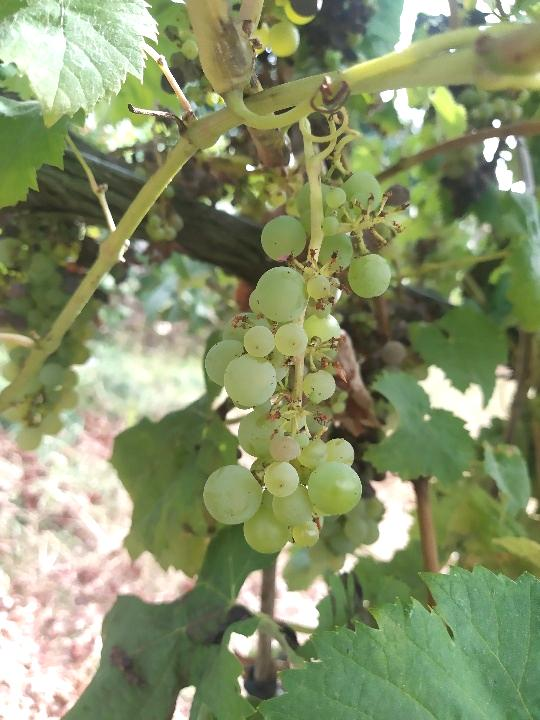grape: (200, 168, 395, 558)
